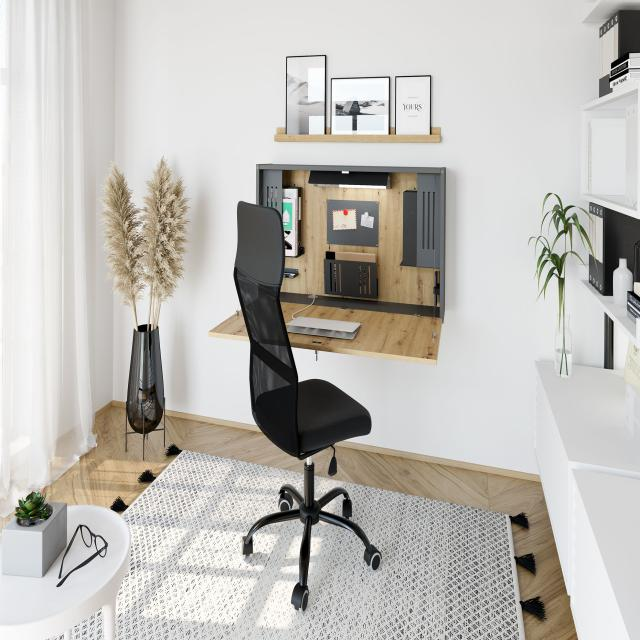chair: (233, 200, 382, 612)
